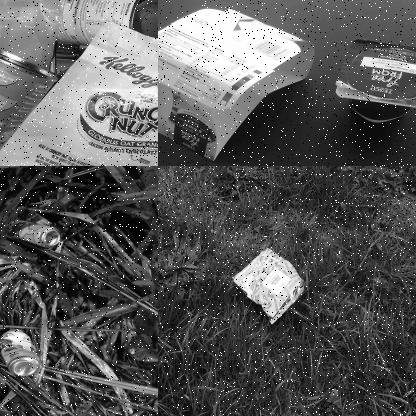cardboard: (45, 26, 157, 165)
metal: (26, 0, 157, 58), (0, 33, 55, 165), (0, 326, 46, 383), (3, 209, 67, 249)
plastic: (158, 10, 310, 159), (330, 29, 415, 133), (229, 247, 306, 322)
